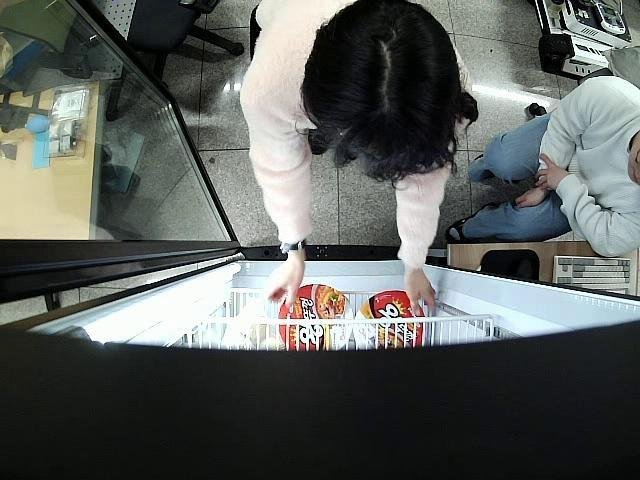10_wangTtukkeong: (276, 282, 352, 350), (351, 290, 426, 348)
